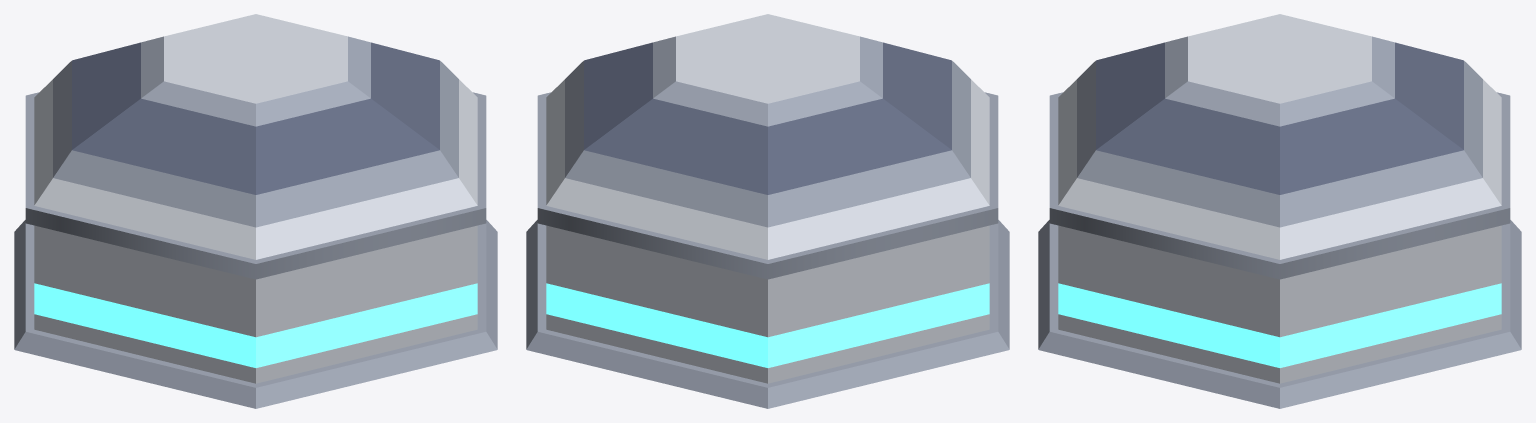
File: hangar_roundA.glb
3 views of the same model, side by side, from view 1: azimuth 30°, elevation 25°; view 2: azimuth 150°, elevation 25°; view 3: azimuth 270°, elevation 25° (orthographic).
Visible parts, largest first — view 1: hangar_roundA; view 2: hangar_roundA; view 3: hangar_roundA.
Boxes of the visible parts, x1=… form: hangar_roundA: x1=14, y1=14, x2=497, y2=408; hangar_roundA: x1=526, y1=14, x2=1009, y2=408; hangar_roundA: x1=1038, y1=14, x2=1521, y2=408.
Bounding box in the file's own units: 3.27 × 1.5 × 2.83.
